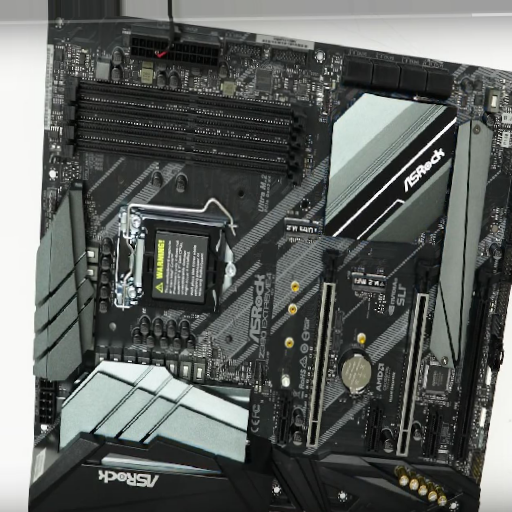CPU: (122, 210, 237, 313)
GPU: (391, 261, 438, 456), (303, 248, 342, 452)
MOTHERBOARD: (18, 15, 502, 506)
RAM: (58, 74, 308, 187)
SSD: (346, 267, 390, 300), (281, 215, 320, 242)
